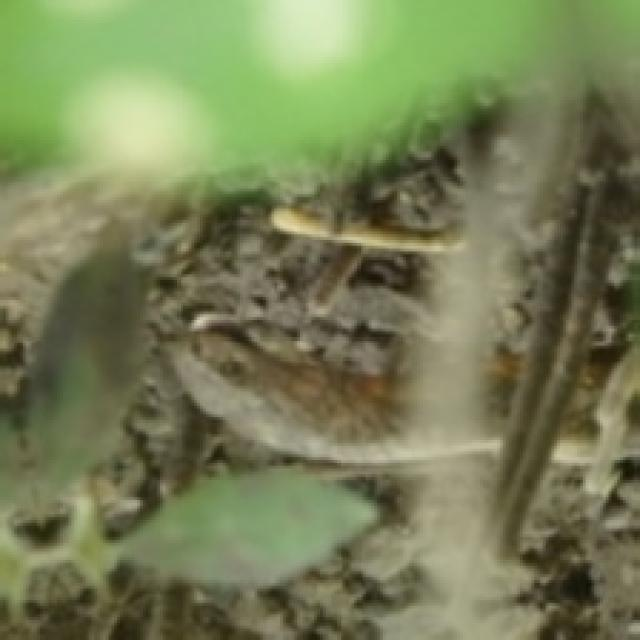king cobra: (166, 321, 499, 464)
